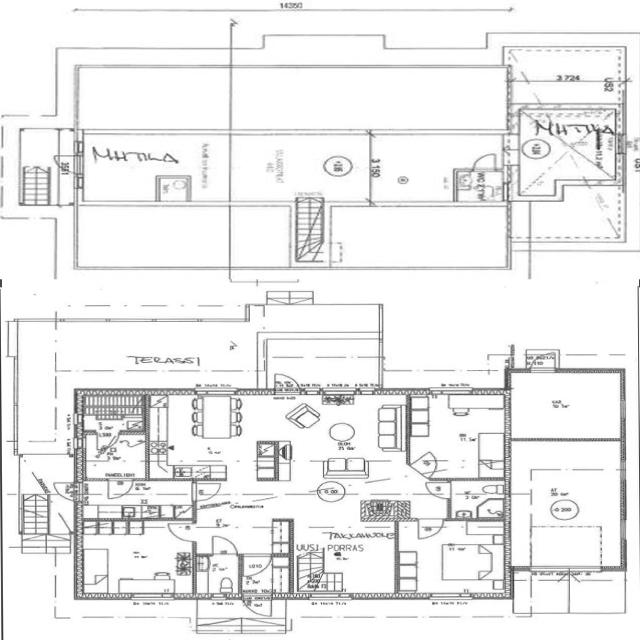door: (239, 552, 273, 578), (190, 479, 224, 504), (241, 592, 273, 618), (52, 152, 84, 176), (207, 534, 239, 557), (526, 352, 559, 374), (422, 478, 452, 501), (469, 150, 500, 172), (272, 372, 301, 394), (166, 521, 196, 542), (416, 518, 444, 540), (106, 478, 134, 500), (92, 432, 119, 452), (54, 484, 77, 502), (354, 382, 378, 398)
window: (426, 590, 475, 602), (427, 385, 475, 397), (307, 590, 352, 602), (127, 592, 173, 602), (319, 386, 357, 397), (570, 566, 602, 579), (197, 388, 238, 398), (616, 518, 630, 542), (616, 396, 628, 423), (617, 459, 630, 483), (354, 384, 376, 397), (204, 593, 233, 602), (301, 386, 323, 397)
zone: (148, 395, 408, 481), (237, 67, 507, 131), (510, 438, 624, 569), (72, 66, 232, 133), (76, 134, 220, 203), (226, 134, 370, 200), (78, 520, 194, 598), (514, 108, 622, 189), (396, 520, 507, 598), (409, 394, 508, 479), (506, 371, 624, 442), (296, 530, 401, 599), (370, 134, 462, 205), (510, 191, 624, 245), (83, 480, 195, 520), (230, 204, 291, 268), (82, 430, 147, 476), (79, 391, 145, 428), (448, 480, 507, 520), (194, 553, 240, 598), (454, 170, 506, 202), (529, 579, 569, 613)
